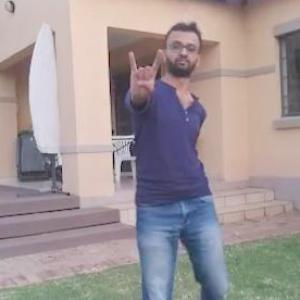takeoff-hand: (121, 42, 166, 103)
